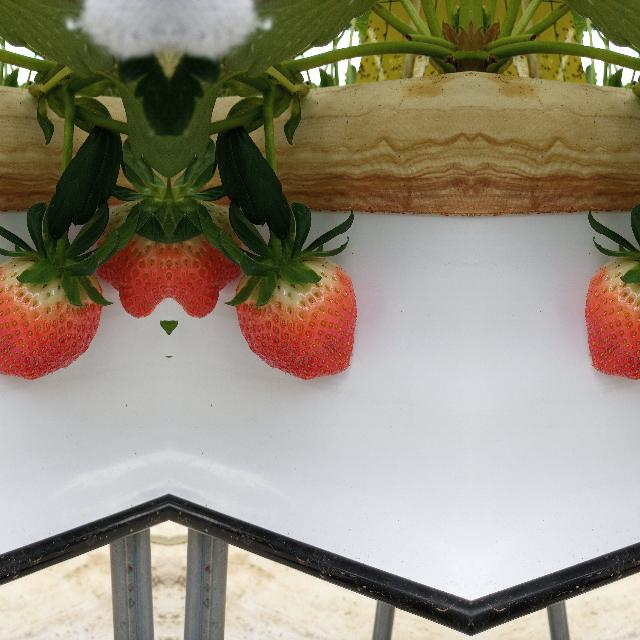Health_100: (234, 256, 356, 380), (0, 255, 102, 380), (584, 255, 640, 380), (172, 222, 232, 338), (104, 222, 164, 338)
